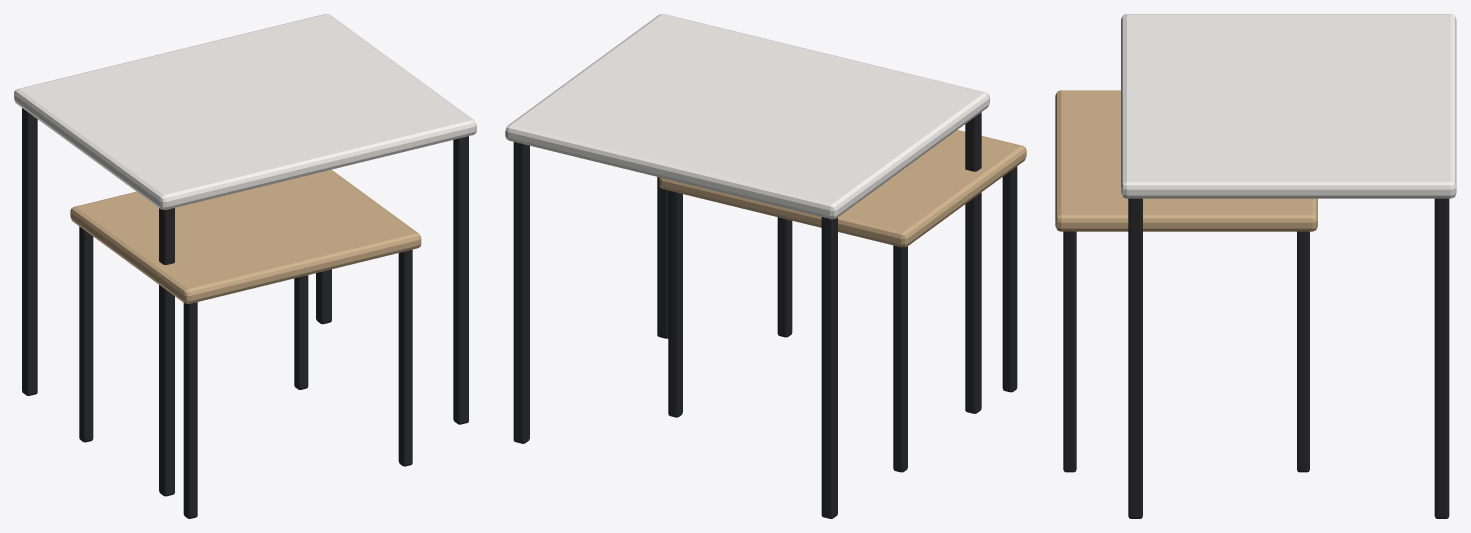
File: nestingTables.glb
The picture shows the model from 3 angles, left to right: view 1: azimuth 30°, elevation 25°; view 2: azimuth 150°, elevation 25°; view 3: azimuth 270°, elevation 25°; orthographic projection. The views are drawn at different scales.
Visible parts, largest first — view 1: table, small_table; view 2: table, small_table; view 3: table, small_table.
Part boxes in pixels (box(x1,y1,x2,y2)): table: box(14, 14, 476, 496); small_table: box(70, 169, 421, 518); table: box(505, 14, 989, 518); small_table: box(659, 130, 1026, 472); table: box(1121, 14, 1456, 518); small_table: box(1055, 90, 1317, 472).
Size of the model in its own units: 0.57 by 0.5125 by 0.55.
